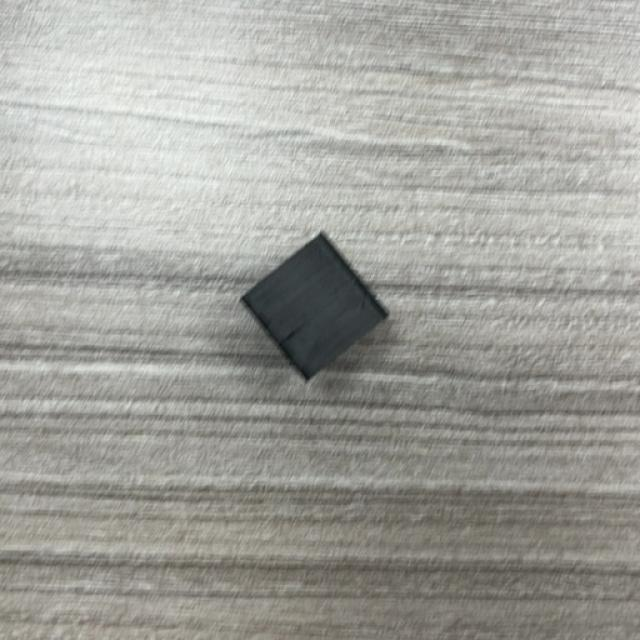Negro: (240, 232, 390, 382)
